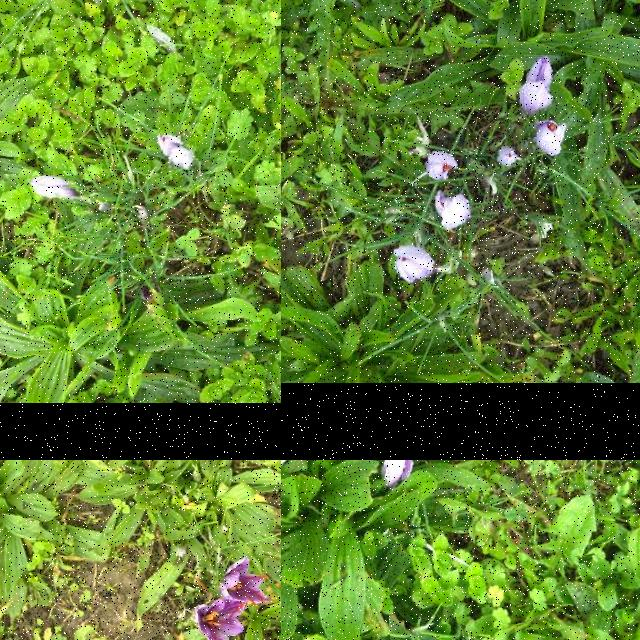flower: (221, 559, 269, 605), (194, 599, 246, 640), (520, 59, 554, 112), (434, 192, 472, 232), (392, 248, 433, 284), (534, 121, 568, 157), (28, 176, 74, 198), (426, 153, 458, 180), (383, 460, 413, 488)
overlap: (158, 134, 192, 168)
